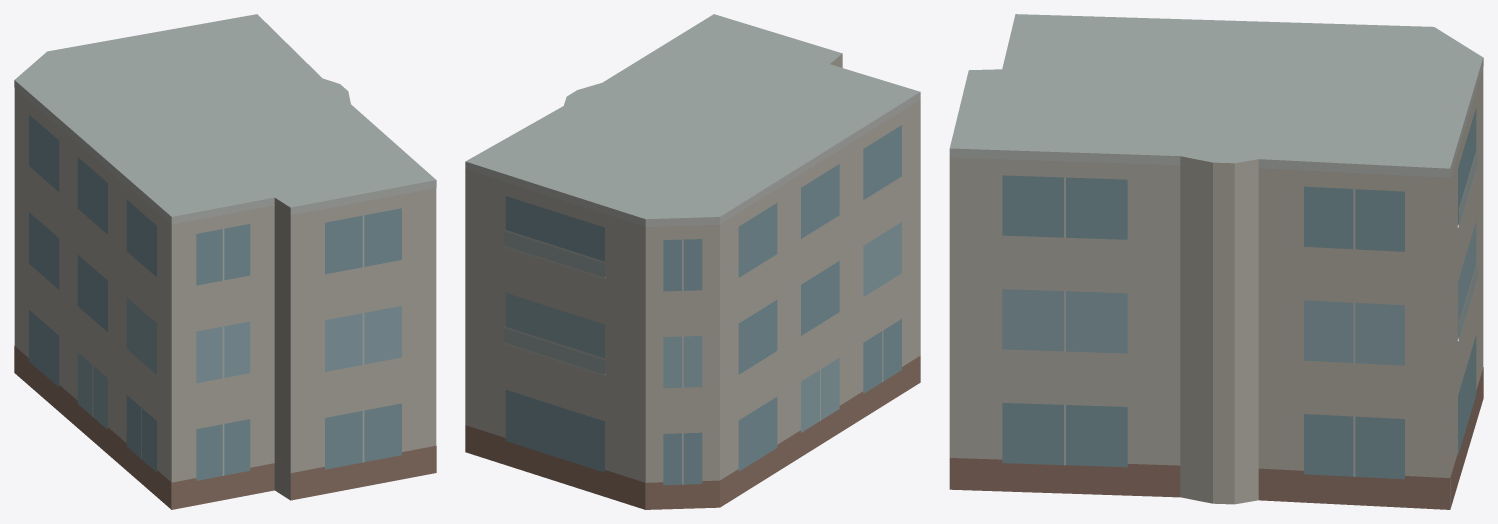
File: survey-upis-32593071.glb
The picture shows the model from 3 angles, left to right: view 1: azimuth 30°, elevation 25°; view 2: azimuth 150°, elevation 25°; view 3: azimuth 270°, elevation 25°; orthographic projection. The views are drawn at different scales.
Parts seen in each view (by area): view 1: survey-upis-32593071.tmp; view 2: survey-upis-32593071.tmp; view 3: survey-upis-32593071.tmp.
Part boxes in pixels (x1,y1,x2,y2): survey-upis-32593071.tmp: [14, 14, 436, 509]; survey-upis-32593071.tmp: [465, 14, 920, 509]; survey-upis-32593071.tmp: [949, 14, 1483, 509].
Size of the model in its own units: 8.91 by 9.15 by 12.98.
